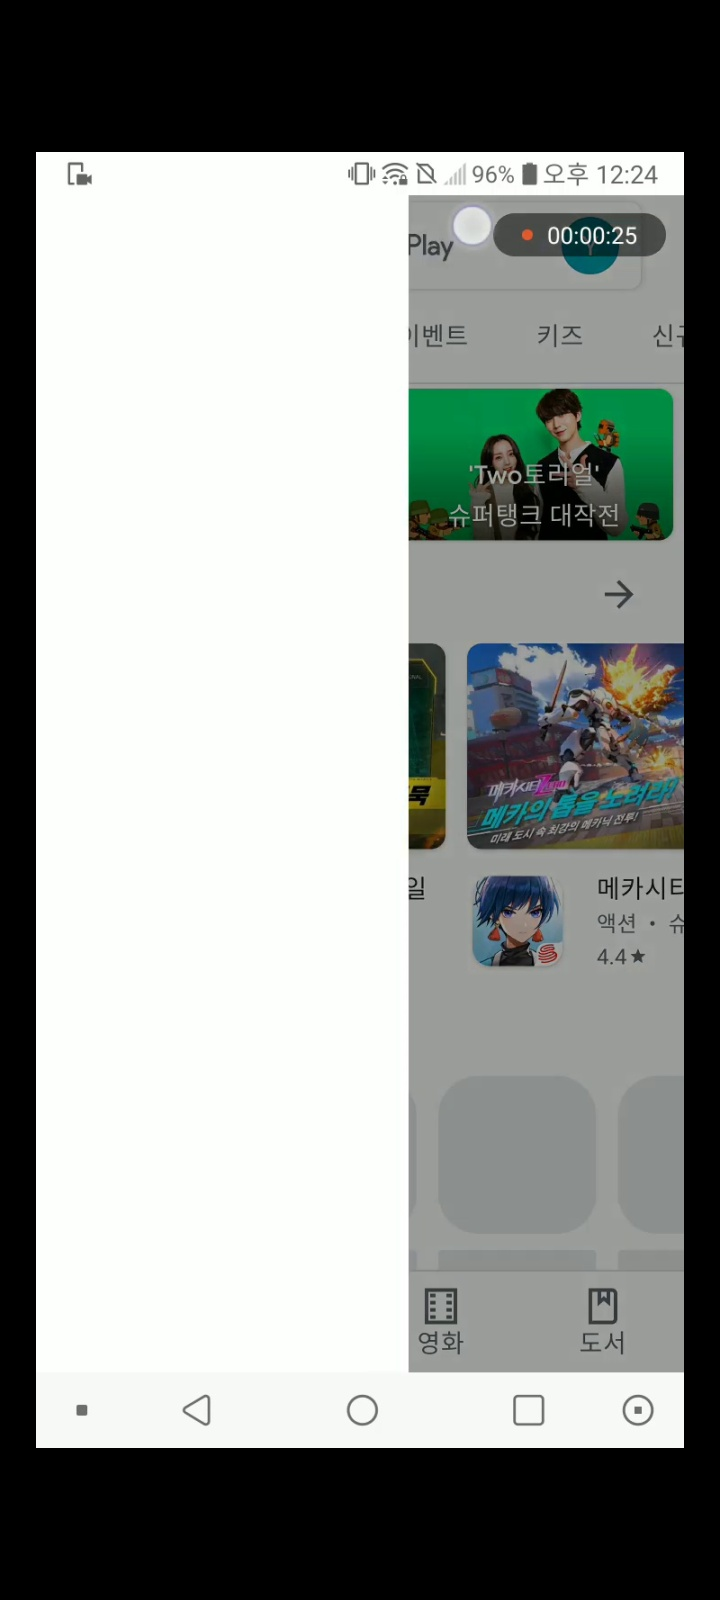Cursor: (450, 202, 495, 248)
